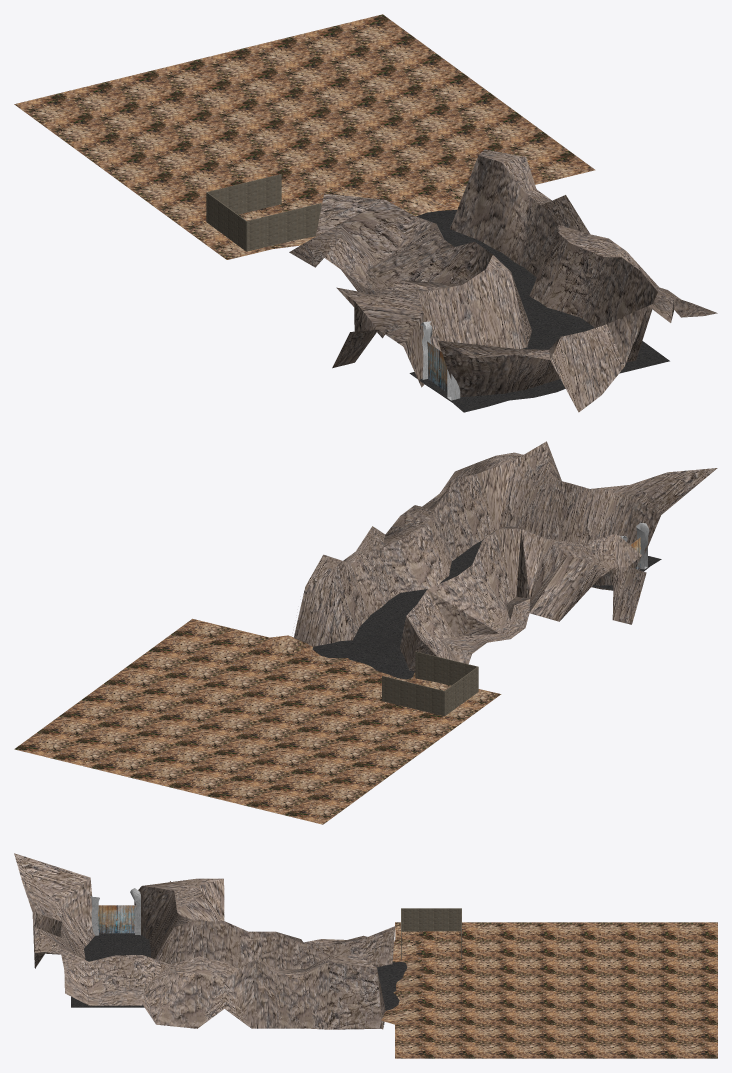
File: ground.obj
3 views of the same model, one above another, from view 1: azimuth 30°, elevation 25°; view 2: azimuth 150°, elevation 25°; view 3: azimuth 270°, elevation 25° (orthographic). The views are drawn at different scales.
Visible parts, largest first — view 1: obj4, obj2, obj1, obj5, obj3; view 2: obj4, obj2, obj1, obj5; view 3: obj4, obj2, obj1, obj3, obj5.
Boxes of the visible parts, x1,y1,x2,y2 form: obj4: [14, 14, 595, 259]; obj2: [289, 149, 717, 412]; obj1: [409, 210, 669, 412]; obj5: [206, 174, 281, 250]; obj3: [420, 321, 460, 400]; obj4: [14, 618, 501, 824]; obj2: [293, 441, 717, 672]; obj1: [312, 529, 661, 679]; obj5: [382, 667, 477, 716]; obj4: [381, 908, 717, 1058]; obj2: [14, 853, 395, 1029]; obj1: [71, 933, 407, 1012]; obj3: [90, 888, 383, 1029]; obj5: [401, 908, 461, 958].
Size of the model in its own units: 85.49 by 21.11 by 174.
